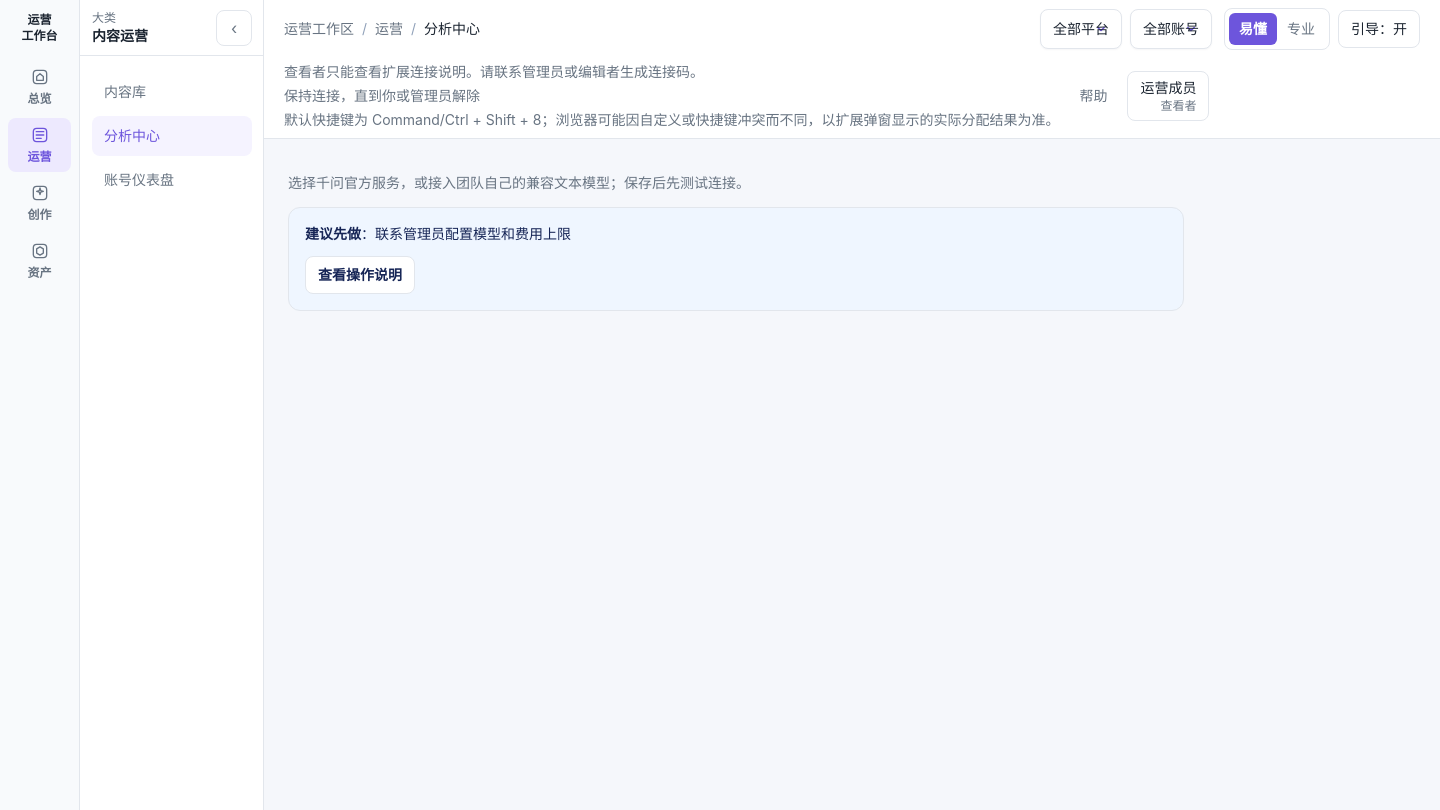
Test: keeps viewer model-setting instructions read-only when expanded
Click the button "查看操作说明": [360, 275] box left=305, top=256, right=415, bottom=294
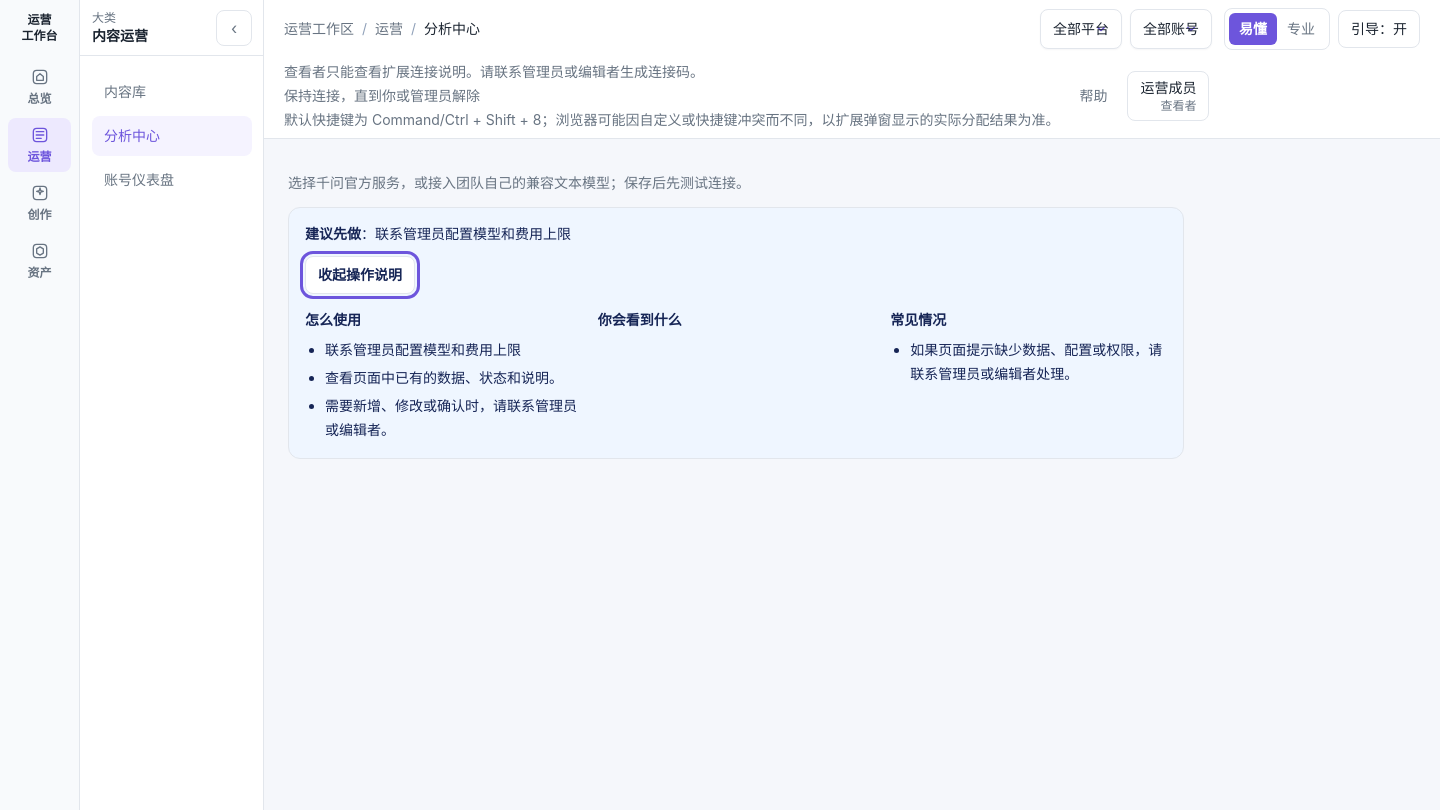
Result: the list item "联系管理员配置模型和费用上限" is shown at left=325, top=341, right=521, bottom=358
Result: the list item "查看页面中已有的数据、状态和说明。" is shown at left=325, top=366, right=582, bottom=390
Result: the list item "需要新增、修改或确认时，请联系管理员或编辑者。" is shown at left=325, top=394, right=582, bottom=442
